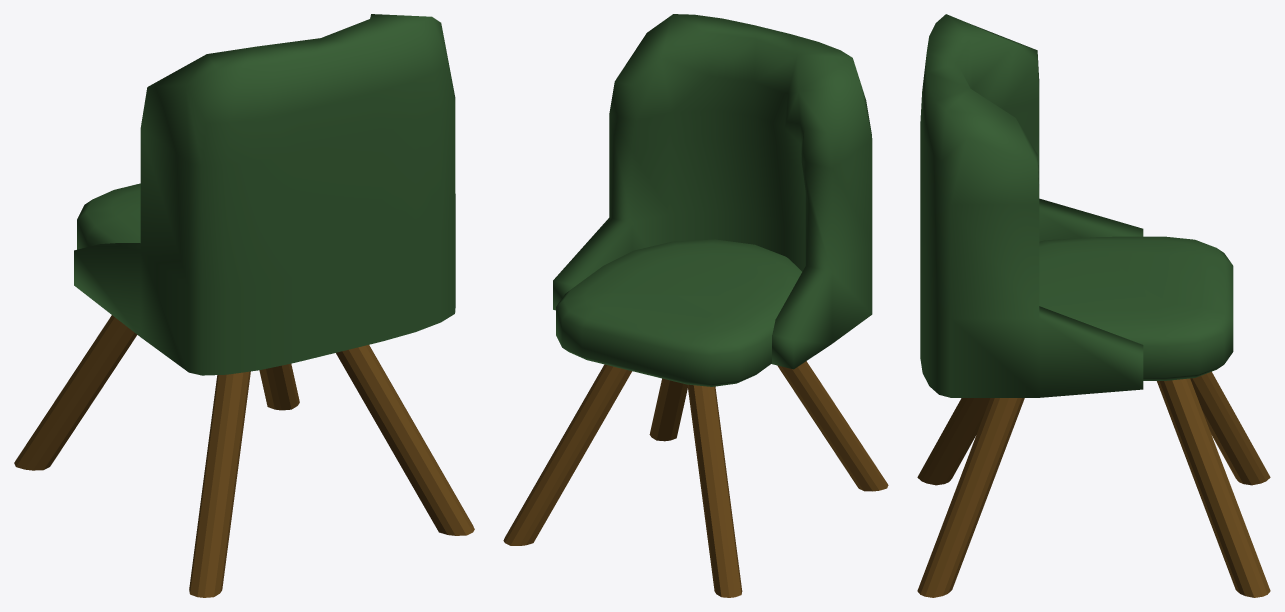
File: Bedroom_Chair.fbx
3 views of the same model, side by side, from view 1: azimuth 30°, elevation 25°; view 2: azimuth 150°, elevation 25°; view 3: azimuth 270°, elevation 25° (orthographic). The views are drawn at different scales.
Parts seen in each view (by area): view 1: Bedroom_Chair; view 2: Bedroom_Chair; view 3: Bedroom_Chair.
Part boxes in pixels (left/top/right/bottom): Bedroom_Chair: left=14, top=14, right=474, bottom=597; Bedroom_Chair: left=503, top=14, right=888, bottom=597; Bedroom_Chair: left=917, top=14, right=1270, bottom=597.
Bounding box in the file's own units: 0.55 × 0.9343 × 0.6338.
